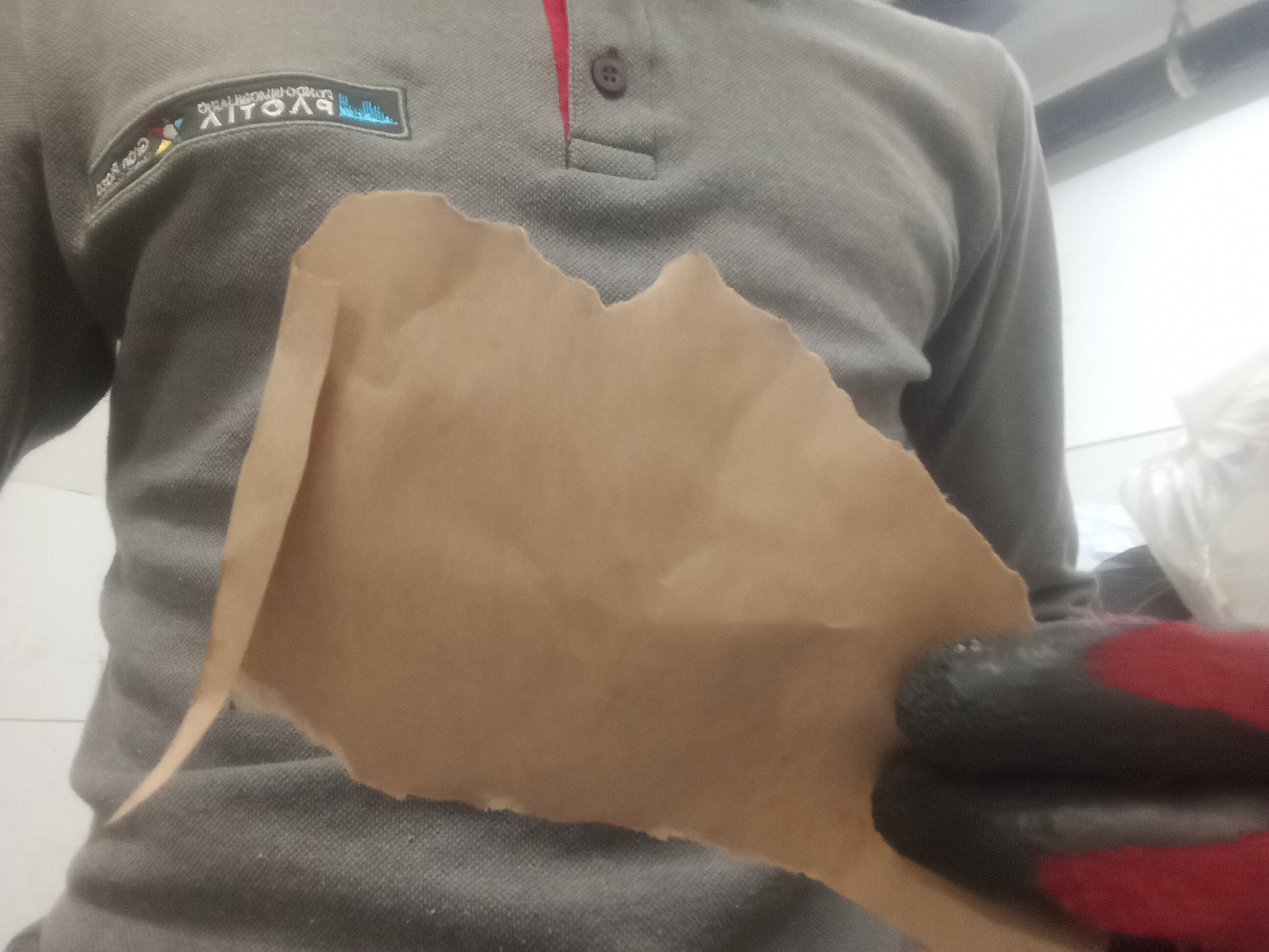Papel: (105, 191, 1047, 952)
